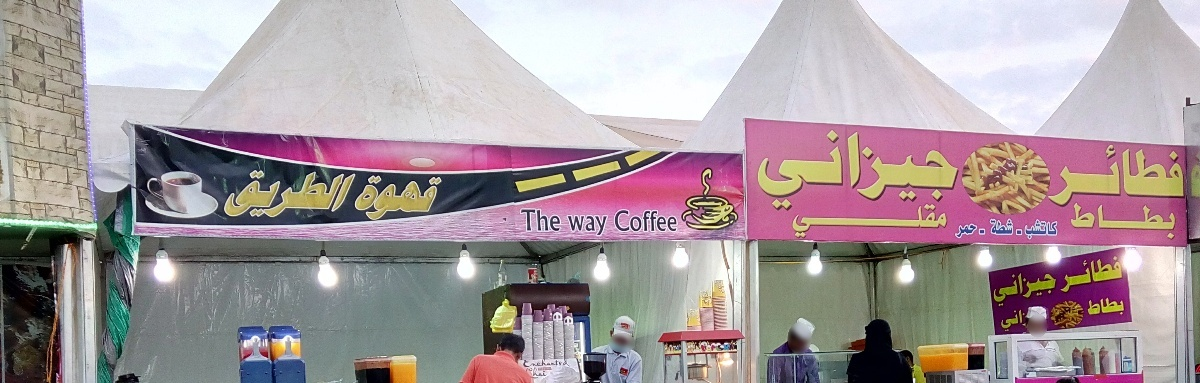text: (769, 124, 784, 213), (785, 124, 800, 213), (801, 124, 816, 213), (817, 124, 832, 213), (833, 124, 848, 213), (849, 124, 864, 213), (865, 124, 880, 213), (881, 124, 896, 213), (897, 124, 912, 213), (913, 124, 928, 213), (929, 124, 944, 213), (945, 124, 960, 213), (755, 124, 768, 213), (1057, 143, 1072, 207), (1073, 143, 1088, 207), (1089, 143, 1104, 207), (1105, 143, 1120, 207), (1121, 143, 1136, 207), (1137, 143, 1152, 207), (1153, 143, 1168, 207), (1169, 143, 1184, 207), (241, 169, 256, 221), (257, 169, 272, 221), (273, 169, 288, 221), (289, 169, 304, 221), (305, 169, 320, 221), (321, 169, 336, 221), (337, 169, 352, 221), (369, 175, 384, 223), (385, 175, 400, 223), (401, 175, 416, 223), (417, 175, 432, 223), (1073, 254, 1088, 294), (1089, 254, 1104, 294), (1105, 254, 1120, 294), (1073, 201, 1088, 241), (1089, 201, 1104, 241), (1105, 201, 1120, 241), (1121, 201, 1136, 241), (1137, 201, 1152, 241), (1153, 201, 1168, 241), (801, 202, 816, 239), (817, 202, 832, 239), (833, 202, 848, 239), (849, 202, 864, 239), (865, 202, 880, 239), (881, 202, 896, 239), (897, 202, 912, 239), (913, 202, 928, 239), (929, 202, 944, 239), (993, 272, 1008, 309), (1009, 272, 1024, 309), (1025, 272, 1040, 309), (1041, 272, 1056, 309), (433, 175, 444, 223), (230, 169, 240, 221), (1060, 254, 1072, 294), (359, 175, 368, 223), (1009, 308, 1023, 334), (529, 208, 544, 232), (545, 208, 560, 232), (625, 210, 640, 233), (641, 210, 656, 233), (657, 210, 672, 233), (577, 215, 592, 237), (593, 215, 608, 237), (1041, 218, 1056, 240), (1169, 201, 1177, 241), (1089, 296, 1104, 317), (1105, 296, 1120, 317), (1026, 218, 1040, 240), (792, 202, 800, 239), (961, 223, 976, 240), (993, 219, 1008, 236), (614, 210, 624, 233), (353, 169, 357, 221), (1121, 254, 1126, 294), (567, 215, 576, 237), (529, 367, 544, 380), (520, 208, 528, 232), (1001, 308, 1008, 334), (705, 341, 720, 353), (721, 341, 736, 353), (673, 210, 679, 233), (529, 359, 544, 368), (545, 359, 560, 368), (1054, 143, 1056, 207), (978, 227, 992, 236), (1121, 296, 1127, 317), (945, 202, 948, 239), (1009, 219, 1015, 236), (961, 124, 962, 213), (561, 359, 570, 368), (1070, 201, 1072, 241), (956, 223, 960, 240), (1016, 228, 1024, 236), (1185, 143, 1186, 207), (989, 219, 992, 236), (1057, 218, 1059, 240), (1086, 296, 1088, 317), (525, 367, 528, 380), (1057, 272, 1058, 309), (524, 359, 528, 368), (701, 341, 704, 353), (545, 367, 552, 371), (545, 367, 547, 380), (538, 367, 544, 371), (561, 208, 562, 232), (609, 215, 610, 237), (977, 223, 978, 240)
